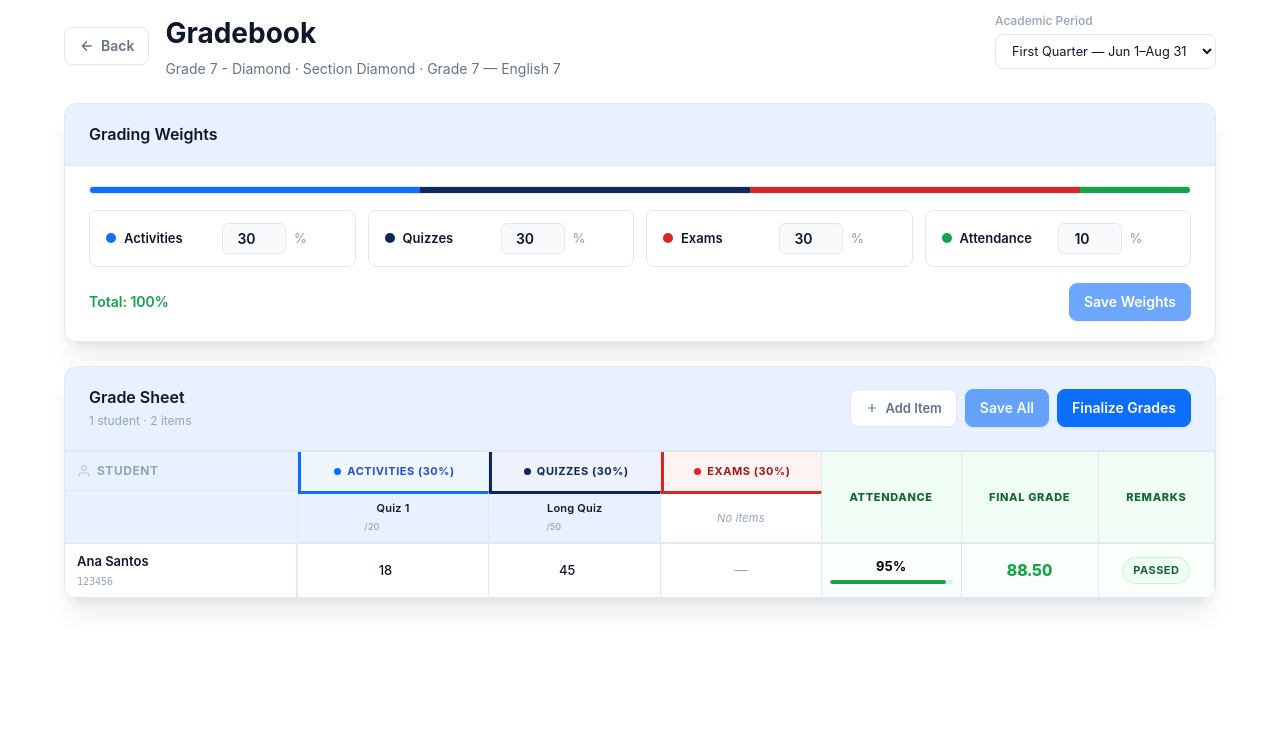
Test: GradebookSubject › rejects scores above the item maximum and saves valid scores
Expected: the text "Ana Santos" is shown, [77,553,148,569]
Replace the text in the 5th number field with placeholder "—" with "25" at {"x": 393, "y": 570}, box [361,556,425,585]
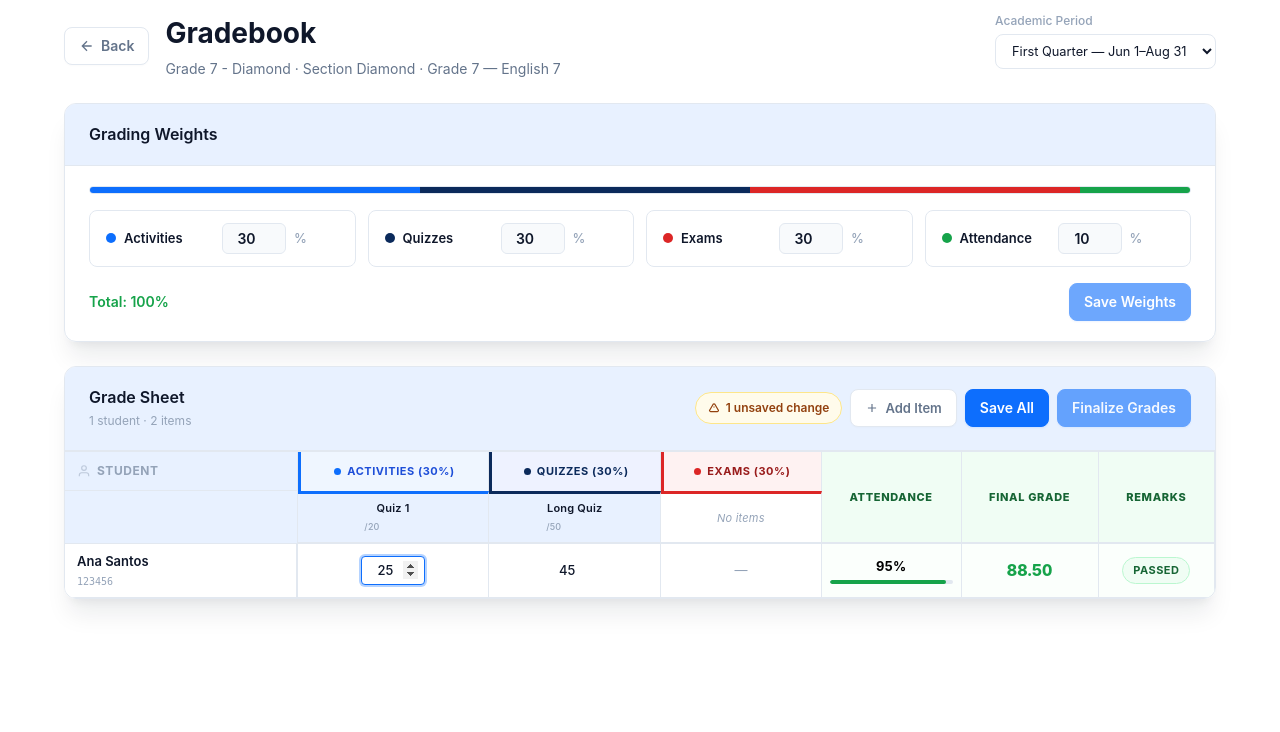
Click the button "Save All".
click(1007, 408)  # box [965,389,1049,427]
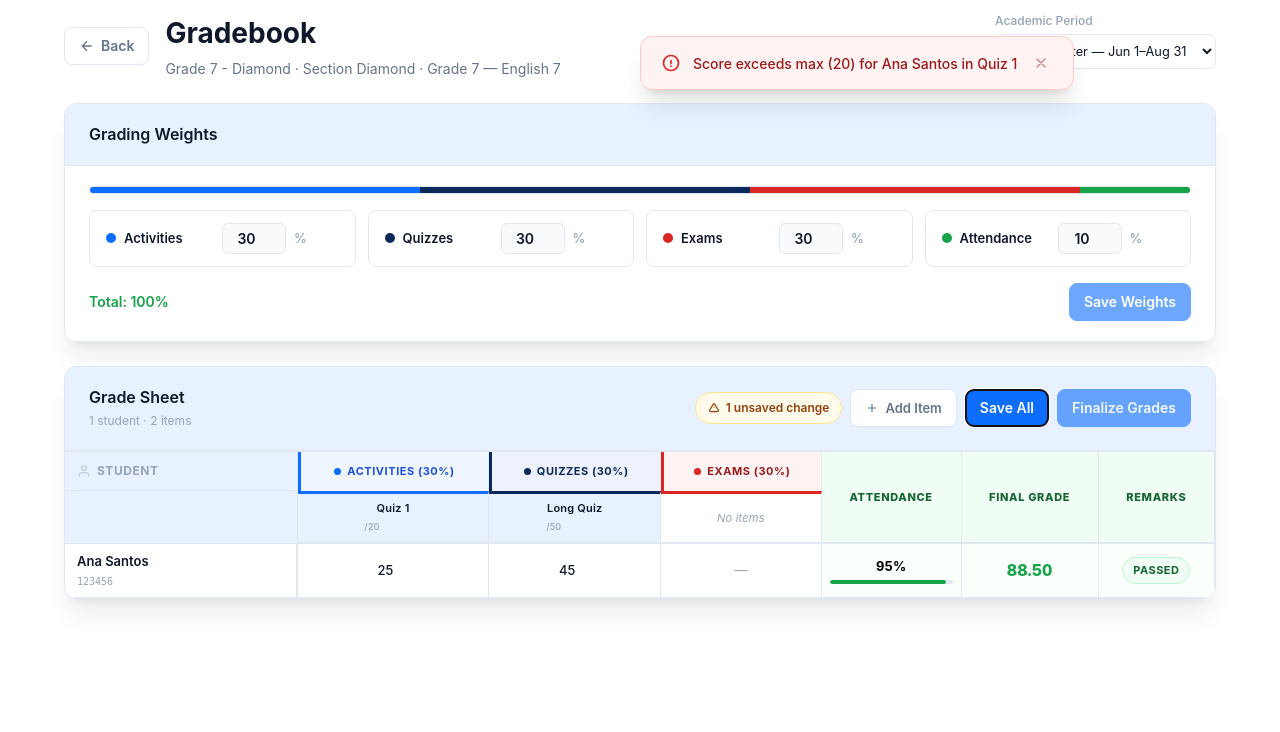
Result: the text "Score exceeds max (20) for Ana Santos in Quiz 1" is shown at [693,52,1017,74]
Replace the text in the 5th number field with placeholder "—" with "19" at {"x": 393, "y": 570}, box [361,556,425,585]
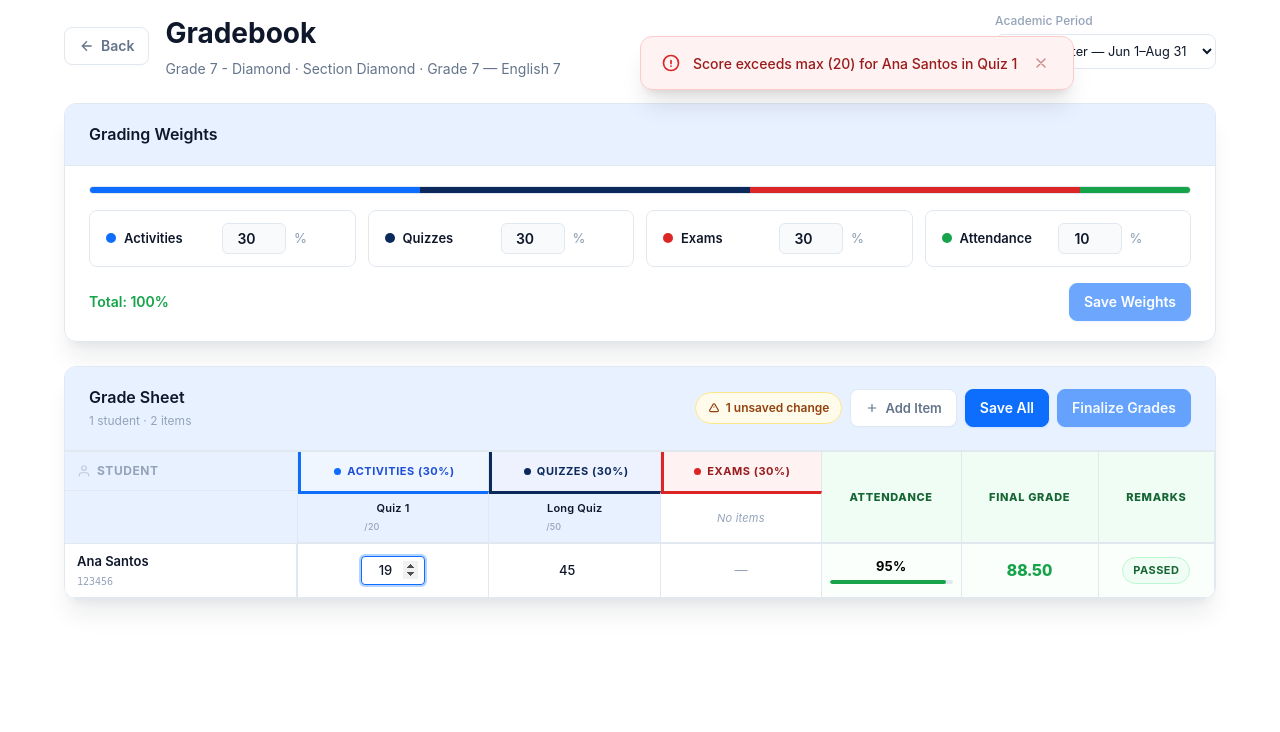
Click the button "Save All".
click(1007, 408)  # box [965,389,1049,427]
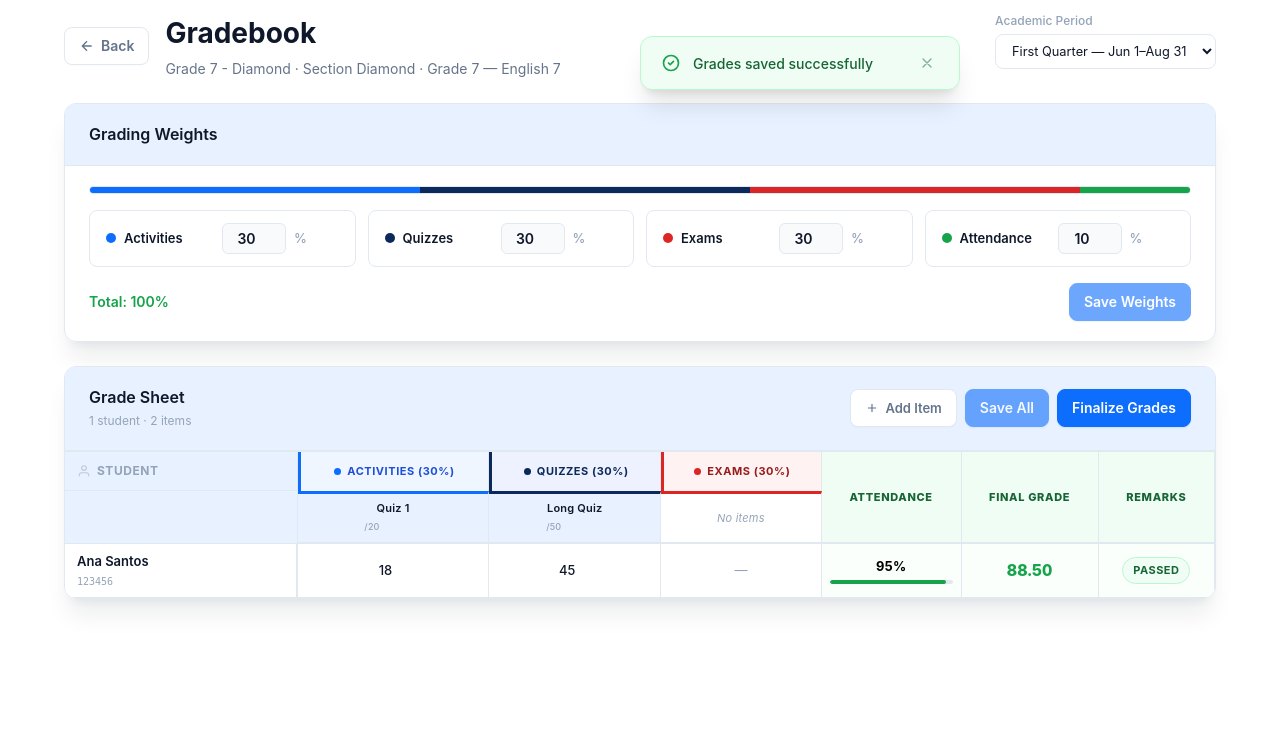
Result: the text "Grades saved successfully" is shown at [693,52,903,74]
